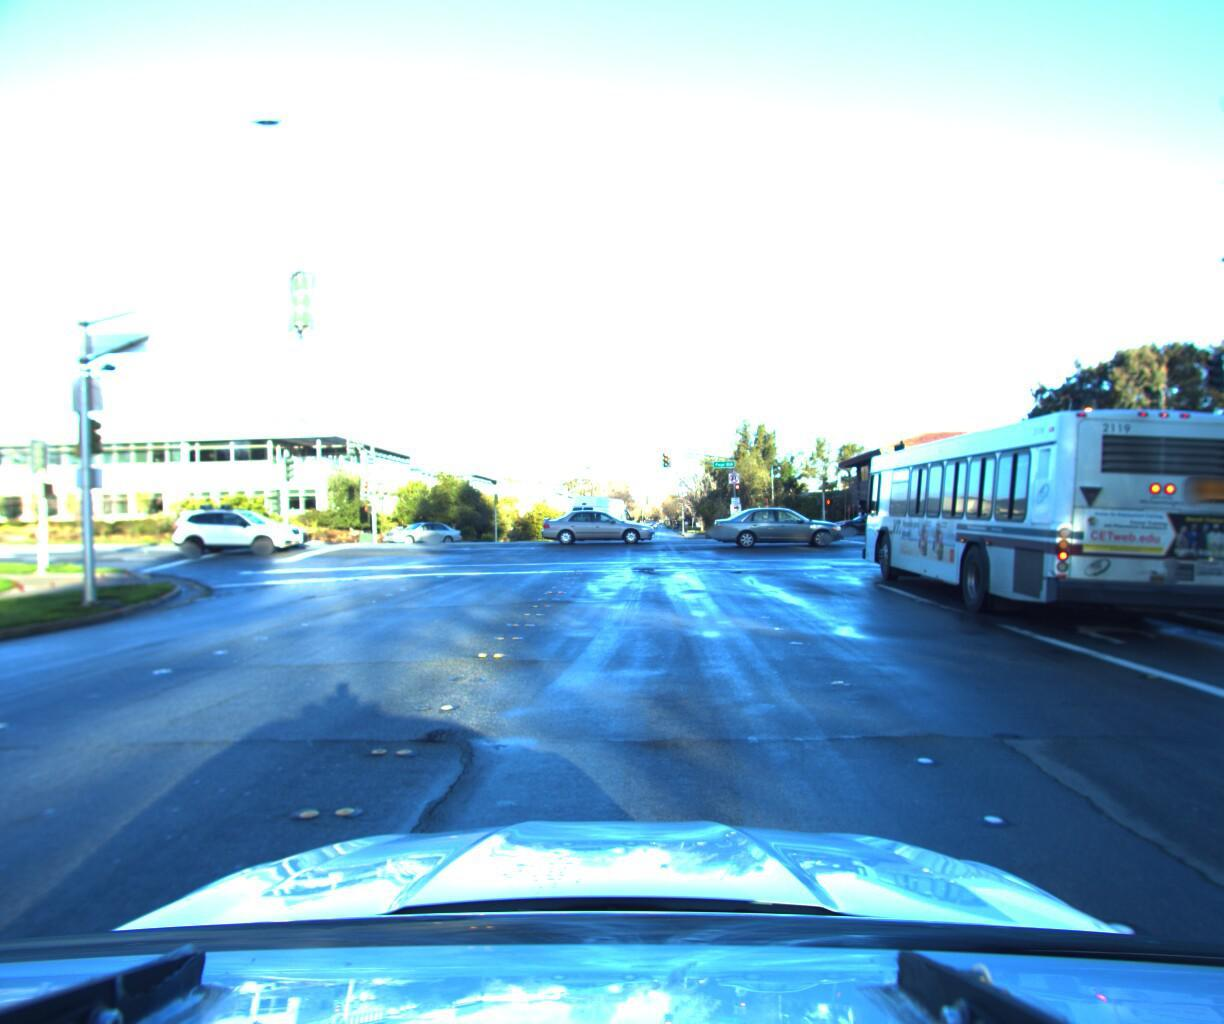bus: (850, 354, 1224, 638)
car: (176, 502, 316, 557), (703, 495, 838, 543), (540, 497, 658, 543), (560, 493, 647, 541), (823, 503, 919, 533), (380, 517, 466, 545), (1195, 479, 1224, 522)
